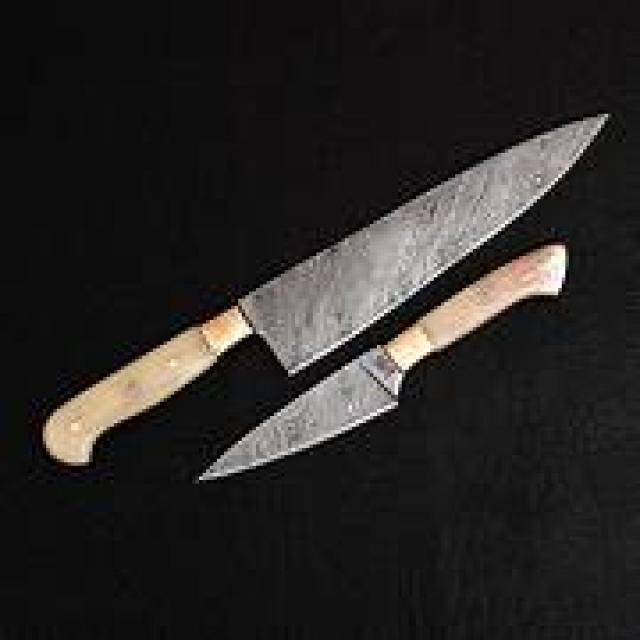Knife: (46, 114, 601, 459), (203, 245, 562, 476)
